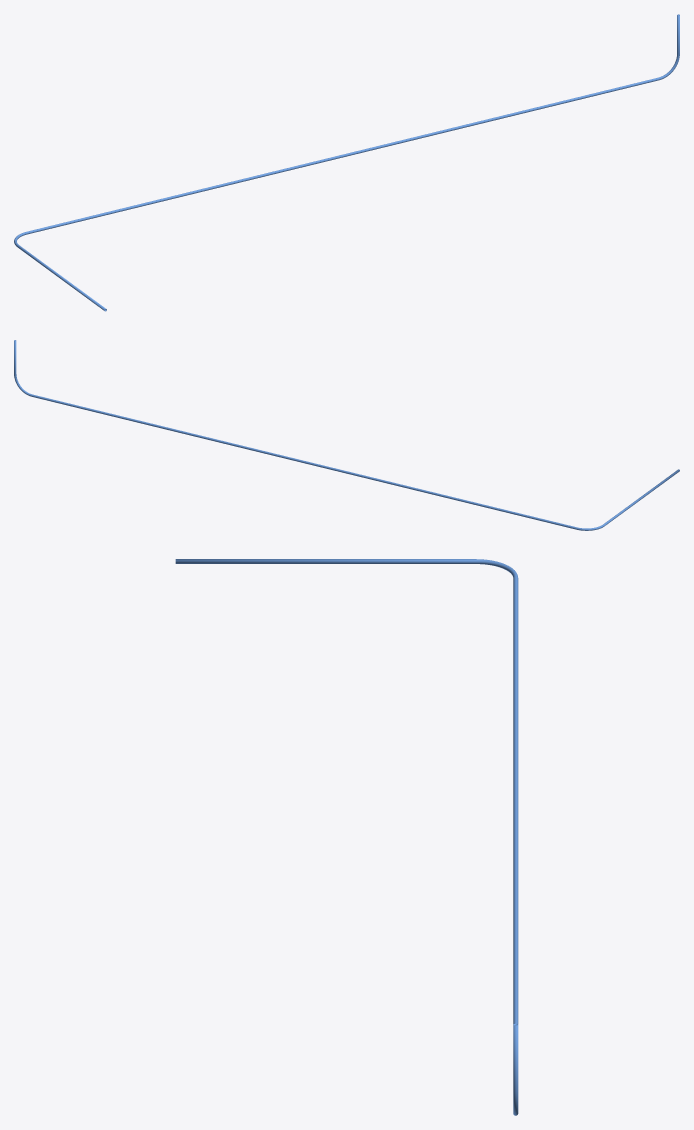
Rendered from slab_pipes_supply__water-city_filter_and_plumbing-attic_repipe_and_softener-no+yes.glb.
3 views of the same model, one above another, from view 1: azimuth 30°, elevation 25°; view 2: azimuth 150°, elevation 25°; view 3: azimuth 270°, elevation 25° (orthographic). The views are drawn at different scales.
Visible parts, largest first — view 1: pipe_supply_house_entry__pex.901; view 2: pipe_supply_house_entry__pex.901; view 3: pipe_supply_house_entry__pex.901.
Boxes of the visible parts, x1,y1,x2,y2 form: pipe_supply_house_entry__pex.901: [14, 14, 679, 311]; pipe_supply_house_entry__pex.901: [14, 340, 679, 530]; pipe_supply_house_entry__pex.901: [175, 559, 518, 1115].
Bounding box in the file's own units: 7.77 × 0.6643 × 1.98.
